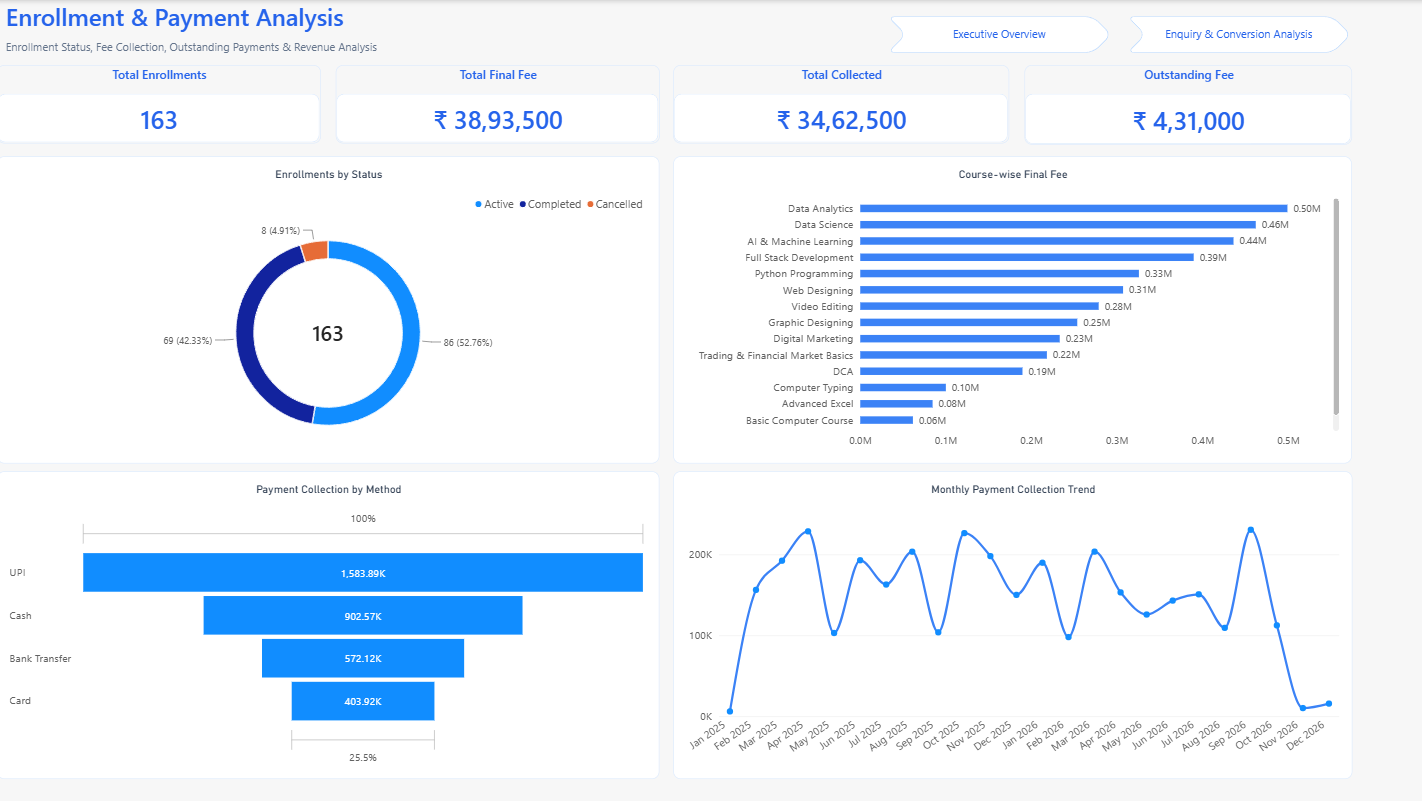

The page's visual inventory and layout, read from the dashboard file:
{"tool":"powerbi","page":{"name":"Enrollment & Payment Analysis","canvas":[1920,1080],"ordinal":2},"visuals":[{"type":"textbox","box":[10.9,0,535.7,52.5],"z":0},{"type":"textbox","box":[10.9,52.5,535.7,36.2],"z":1000},{"type":"cardVisual","title":"Total Enrollments","fields":{"Data":["CountNonNull(institute_analytics enrollments.enrollment_id)"]},"box":[0,86.9,432.5,105],"z":2000},{"type":"cardVisual","title":"Total Final Fee","fields":{"Data":["Sum(institute_analytics enrollments.final_fee)"]},"box":[451.8,86.9,432.5,105],"z":3000},{"type":"cardVisual","title":"Total Collected","fields":{"Data":["Sum(institute_analytics payments.amount_paid)"]},"box":[903.6,86.9,448.8,105],"z":4000},{"type":"cardVisual","title":"Outstanding Fee","fields":{"Data":["institute_analytics enrollments.Outstanding Fee"]},"box":[1371.7,86.9,437.9,106.8],"z":5000},{"type":"donutChart","title":"Enrollments by Status","fields":{"Category":["institute_analytics enrollments.enrollment_status"],"Y":["CountNonNull(institute_analytics enrollments.enrollment_id)"]},"box":[0,208.1,884.9,410.8],"z":6000},{"type":"clusteredBarChart","title":"Course-wise Final Fee","fields":{"Category":["institute_analytics courses.course_name"],"Y":["Sum(institute_analytics enrollments.final_fee)"]},"box":[903,208.1,906.6,410.8],"z":7000},{"type":"funnel","title":"Payment Collection by Method","fields":{"Category":["institute_analytics payments.payment_method"],"Y":["Sum(institute_analytics payments.amount_paid)"]},"box":[0,629,885,411],"z":8000},{"type":"lineChart","title":"Monthly Payment Collection Trend","fields":{"Category":["institute_analytics payments.Payment Month Year"],"Y":["Sum(institute_analytics payments.amount_paid)"]},"box":[903,629,907,411],"z":9000},{"type":"pageNavigator","box":[1188.9,21.7,620.3,49.9],"z":9001}]}

Visuals, with their boxes in screenshot pixels (x1, y1, x2, y2), scaled from the page's 1920x1080 canvas onto the 1422x801 screenshot:
textbox: x1=8, y1=0, x2=405, y2=39
textbox: x1=8, y1=39, x2=405, y2=66
"Total Enrollments" cardVisual: x1=0, y1=64, x2=320, y2=142
"Total Final Fee" cardVisual: x1=335, y1=64, x2=655, y2=142
"Total Collected" cardVisual: x1=669, y1=64, x2=1002, y2=142
"Outstanding Fee" cardVisual: x1=1016, y1=64, x2=1340, y2=144
"Enrollments by Status" donutChart: x1=0, y1=154, x2=655, y2=459
"Course-wise Final Fee" clusteredBarChart: x1=669, y1=154, x2=1340, y2=459
"Payment Collection by Method" funnel: x1=0, y1=467, x2=655, y2=771
"Monthly Payment Collection Trend" lineChart: x1=669, y1=467, x2=1341, y2=771
pageNavigator: x1=881, y1=16, x2=1340, y2=53
